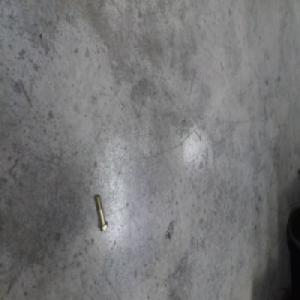Bolt: (94, 192, 109, 233)
